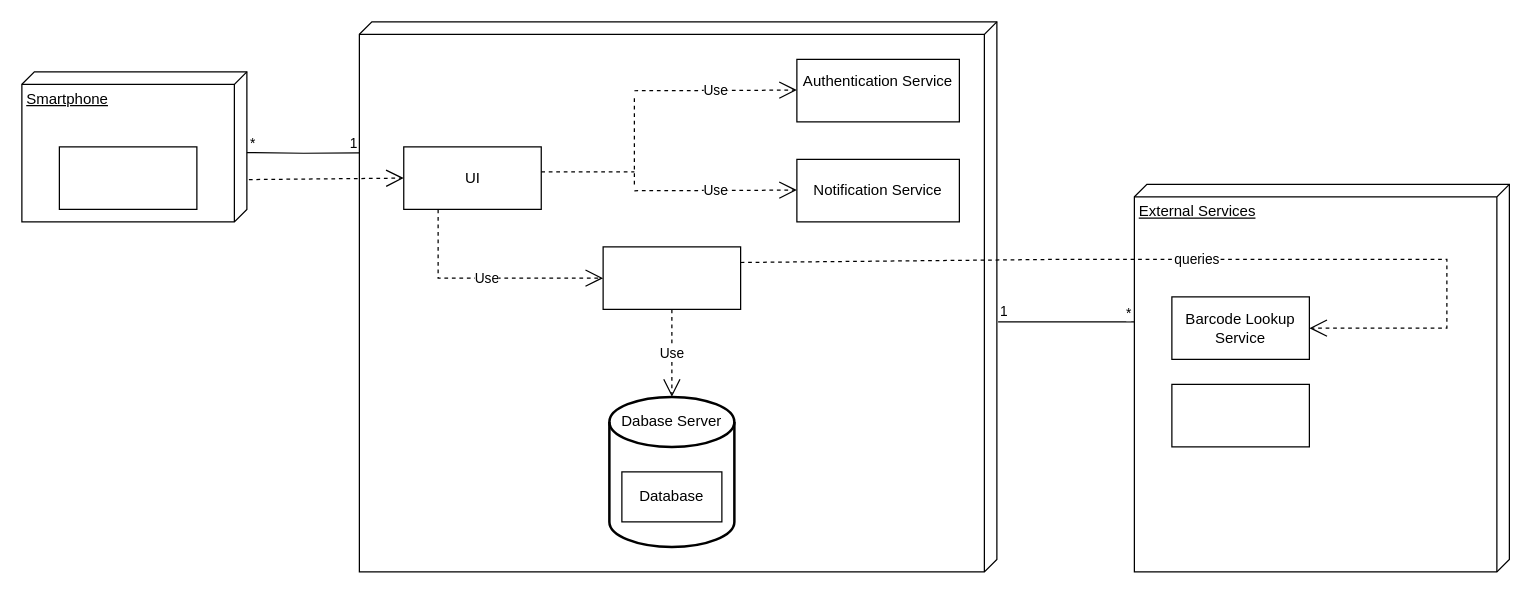
This 1531x594 diagram has some shape labels left out. The box of each missing label's shape, as (x1, y1, x2, y2) in pixels:
App: (58, 146, 197, 209)
Application Server Machine: (358, 21, 997, 572)
Business Logic: (602, 246, 741, 309)
Other Services: (1171, 383, 1309, 447)
